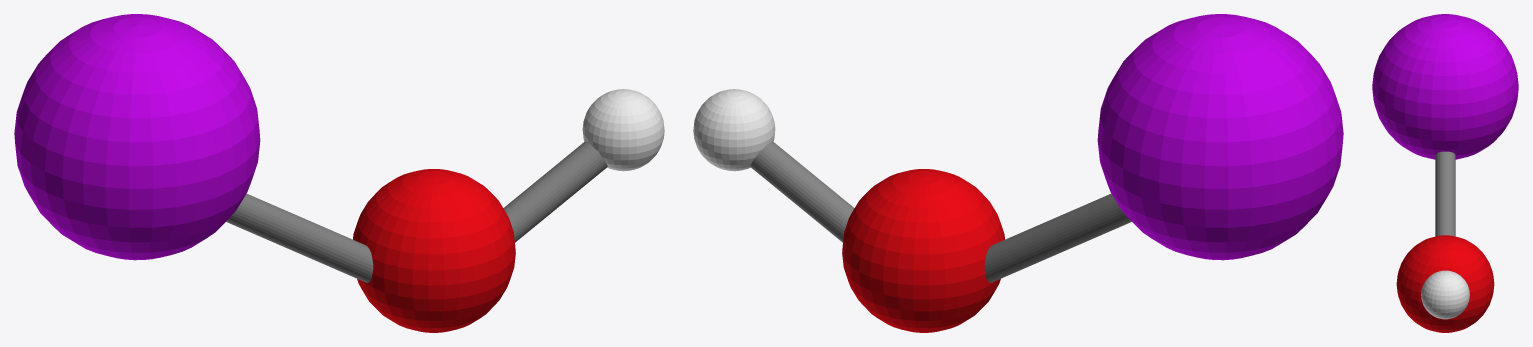
File: NaOH.glb
3 renders of one model, left to right at view 1: azimuth 30°, elevation 25°; view 2: azimuth 150°, elevation 25°; view 3: azimuth 270°, elevation 25°, orthographic. The views are drawn at different scales.
Parts seen in each view (by area): view 1: натрий, кислород, водород, Cylinder.001, Cylinder; view 2: натрий, кислород, водород, Cylinder.001, Cylinder; view 3: натрий, кислород, водород, Cylinder.001.
Part boxes in pixels (box(x1,y1,x2,y2)): натрий: box(14, 14, 260, 260); кислород: box(353, 169, 515, 332); водород: box(582, 89, 664, 171); Cylinder.001: box(226, 193, 373, 282); Cylinder: box(503, 141, 607, 242); натрий: box(1097, 14, 1343, 260); кислород: box(842, 169, 1004, 332); водород: box(693, 89, 775, 171); Cylinder.001: box(984, 193, 1131, 282); Cylinder: box(750, 141, 854, 242); натрий: box(1372, 14, 1518, 159); кислород: box(1396, 235, 1494, 332); водород: box(1421, 270, 1469, 319); Cylinder.001: box(1435, 151, 1455, 236).
Bounding box in the file's own units: 5.3 × 3 × 1.8.
